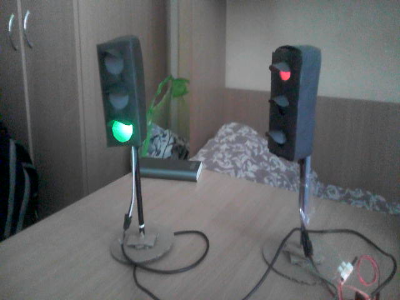trafficlight_green: (100, 43, 139, 146)
trafficlight_red: (268, 50, 301, 153)
